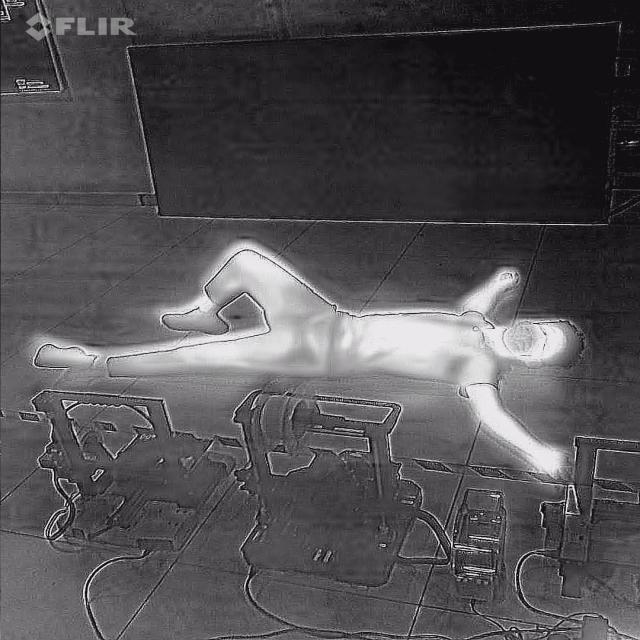Victim: (26, 238, 586, 485)
